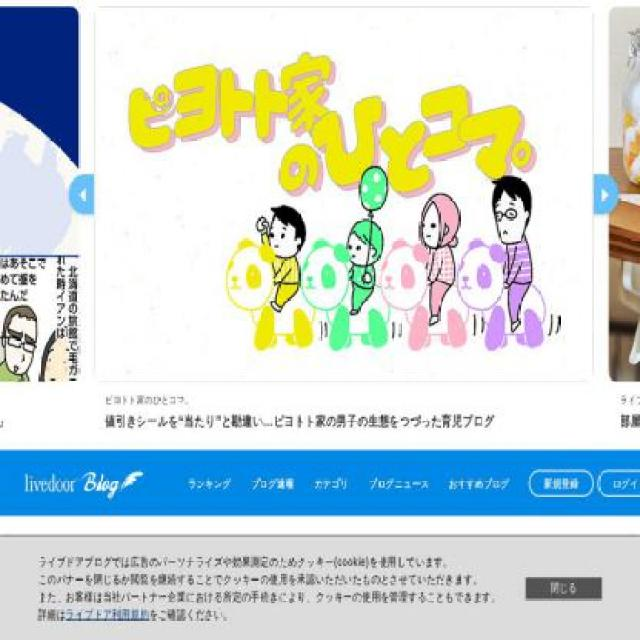button: (25, 472, 144, 501), (529, 469, 594, 497), (526, 578, 602, 599), (448, 478, 510, 499), (368, 478, 429, 499), (598, 470, 639, 498), (250, 478, 295, 499), (187, 478, 231, 499), (314, 478, 349, 499)
